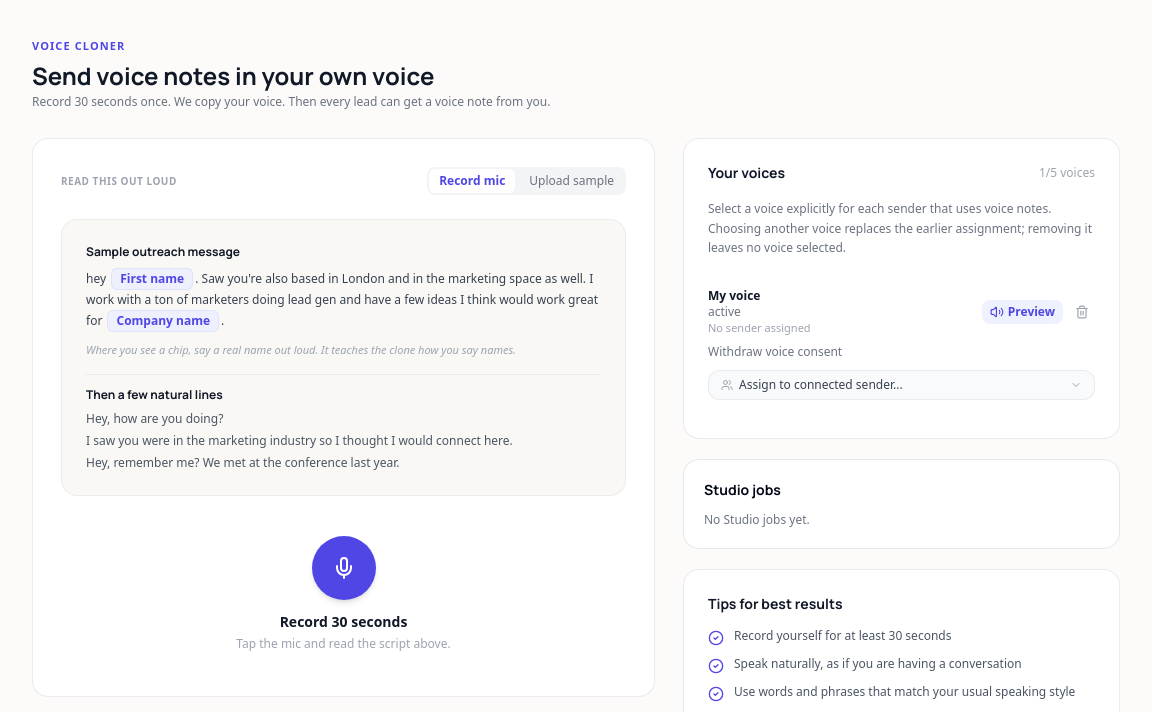
sender selection sends current revision and handles success=false visibly
Click the button "Assign to connected sender...": {"x": 902, "y": 385} left=708, top=370, right=1095, bottom=400
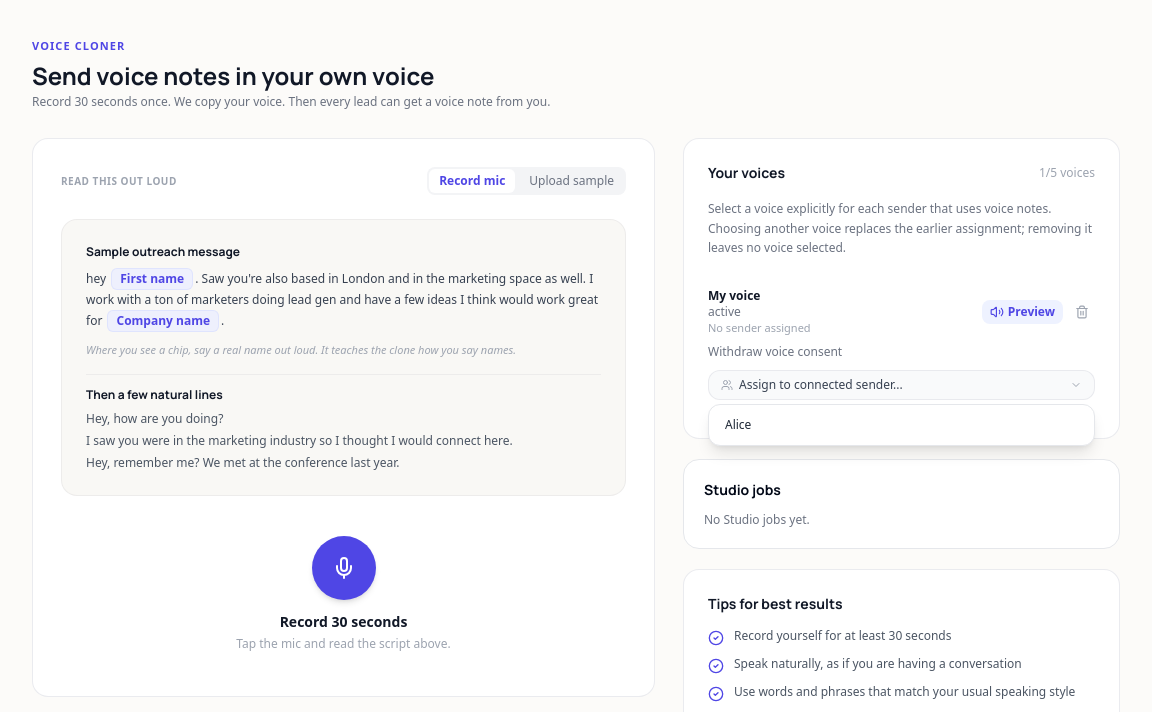
Click the button "Alice": {"x": 738, "y": 424} left=715, top=411, right=1088, bottom=439
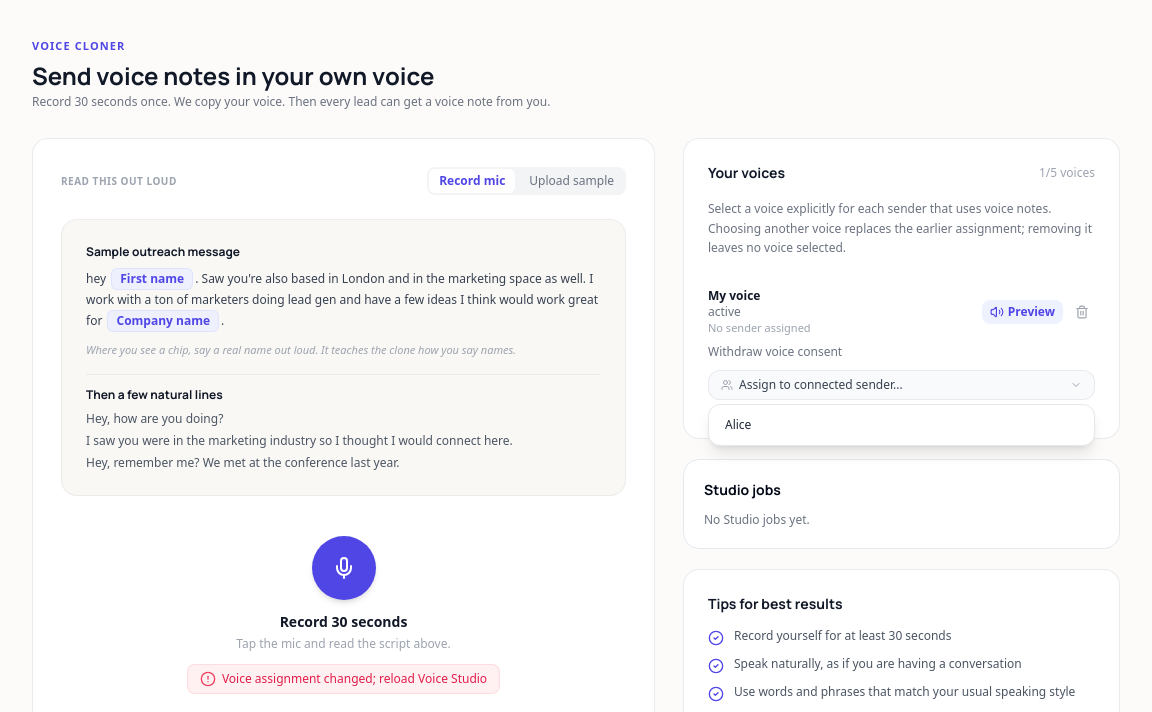
Result: the text "Voice assignment changed; reload Voice Studio" is shown at left=222, top=670, right=487, bottom=686
